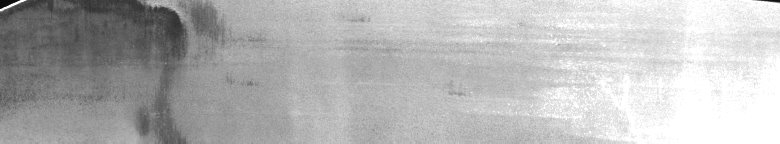hc: (4, 4, 193, 136)
